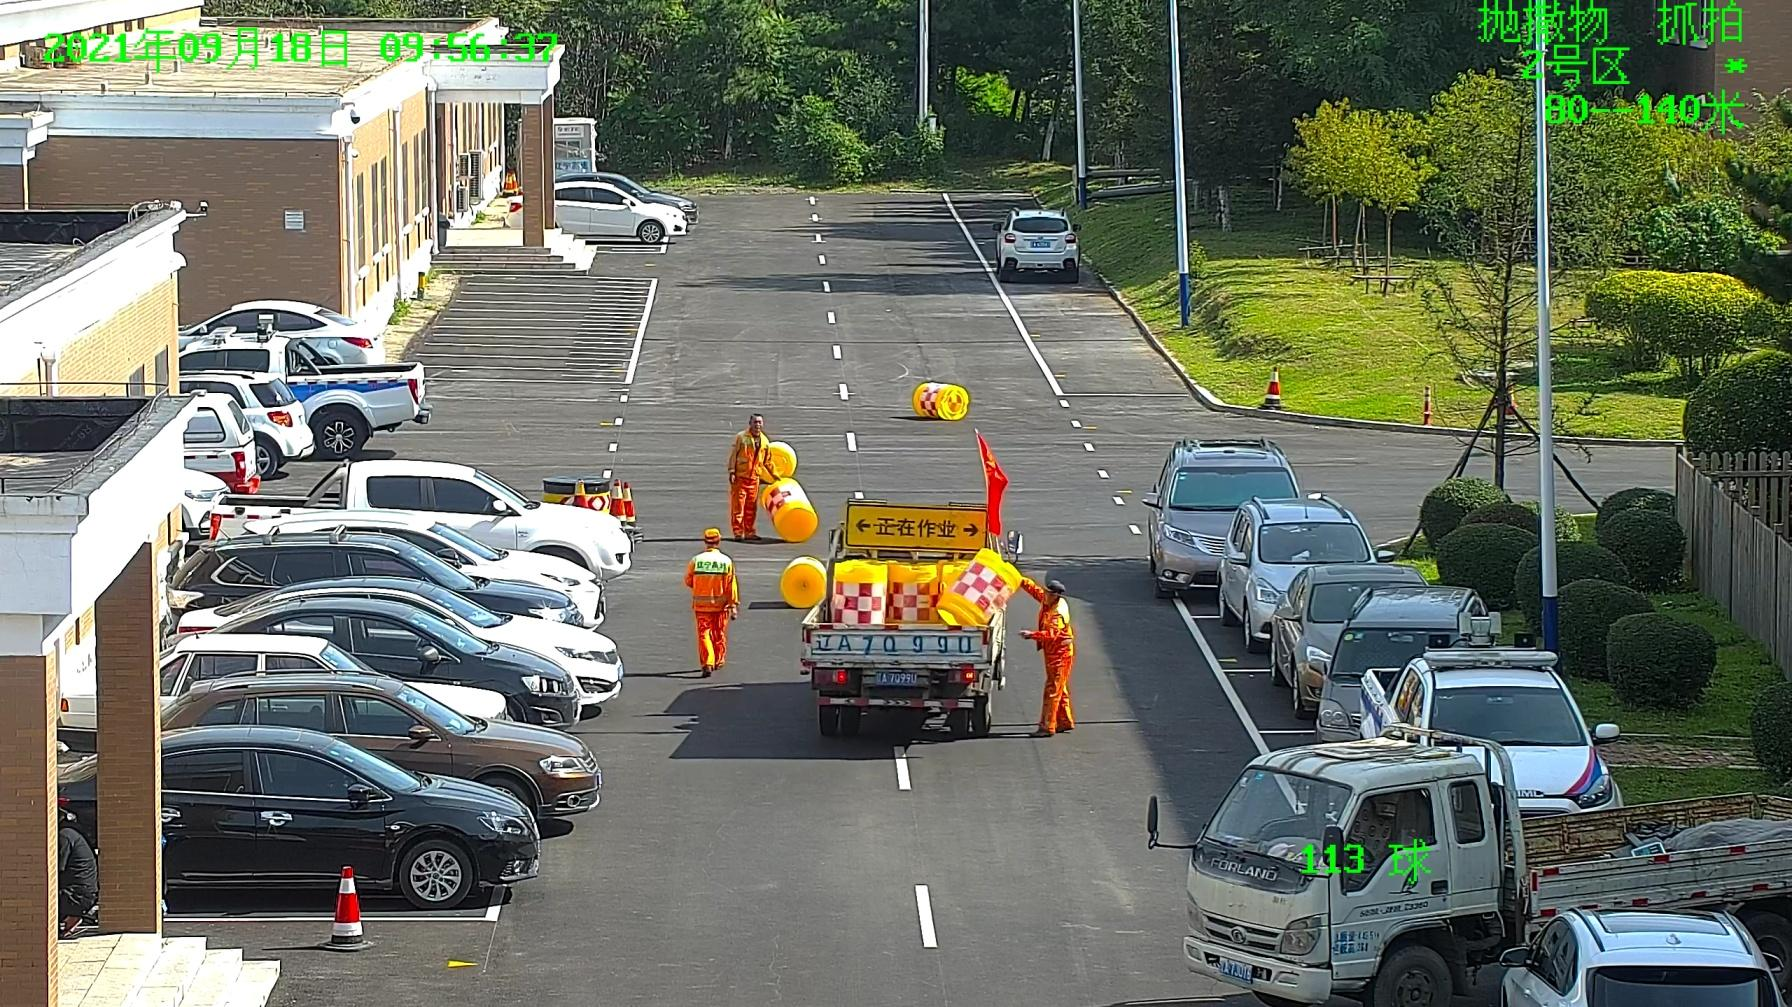cone_barrel: (946, 548, 1017, 625), (761, 473, 816, 540), (885, 559, 937, 625), (832, 563, 882, 624), (780, 554, 826, 608), (914, 382, 967, 421)
